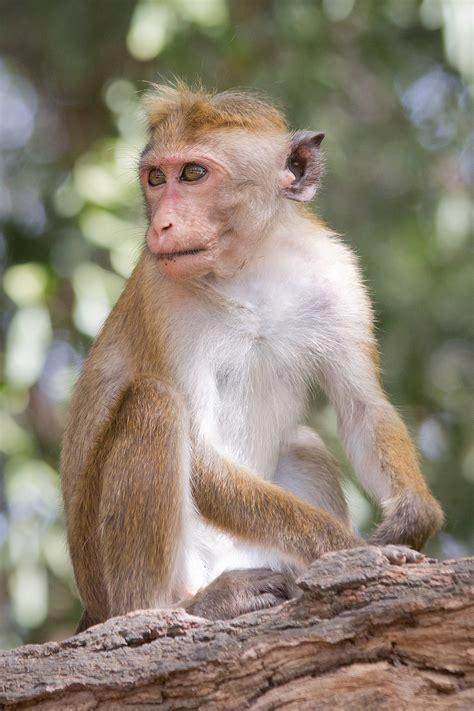monkey: (61, 93, 441, 621)
